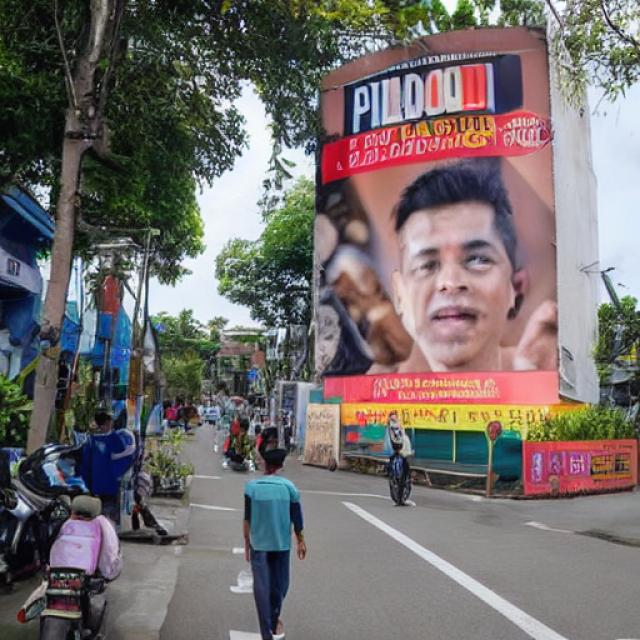Billboard: (306, 23, 569, 450)
